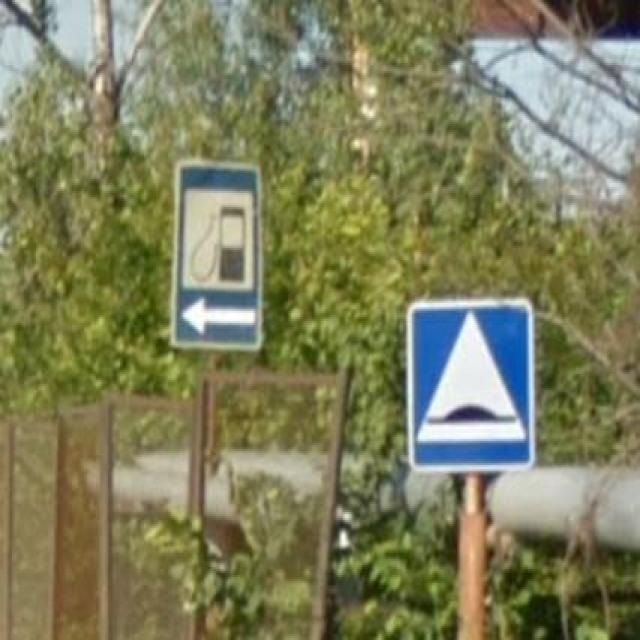traffic_sign: (408, 299, 536, 473), (170, 158, 266, 354)
